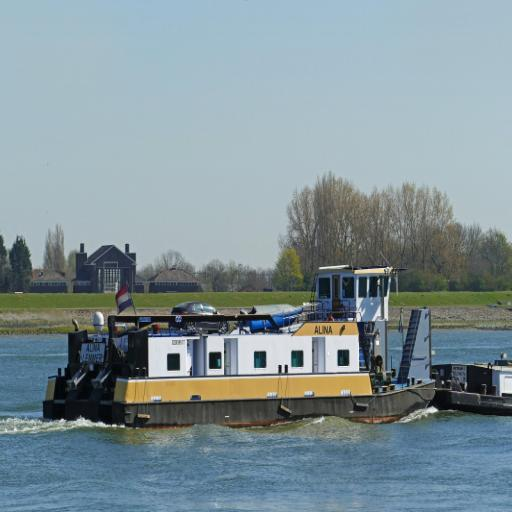tugboat: (41, 260, 441, 450)
